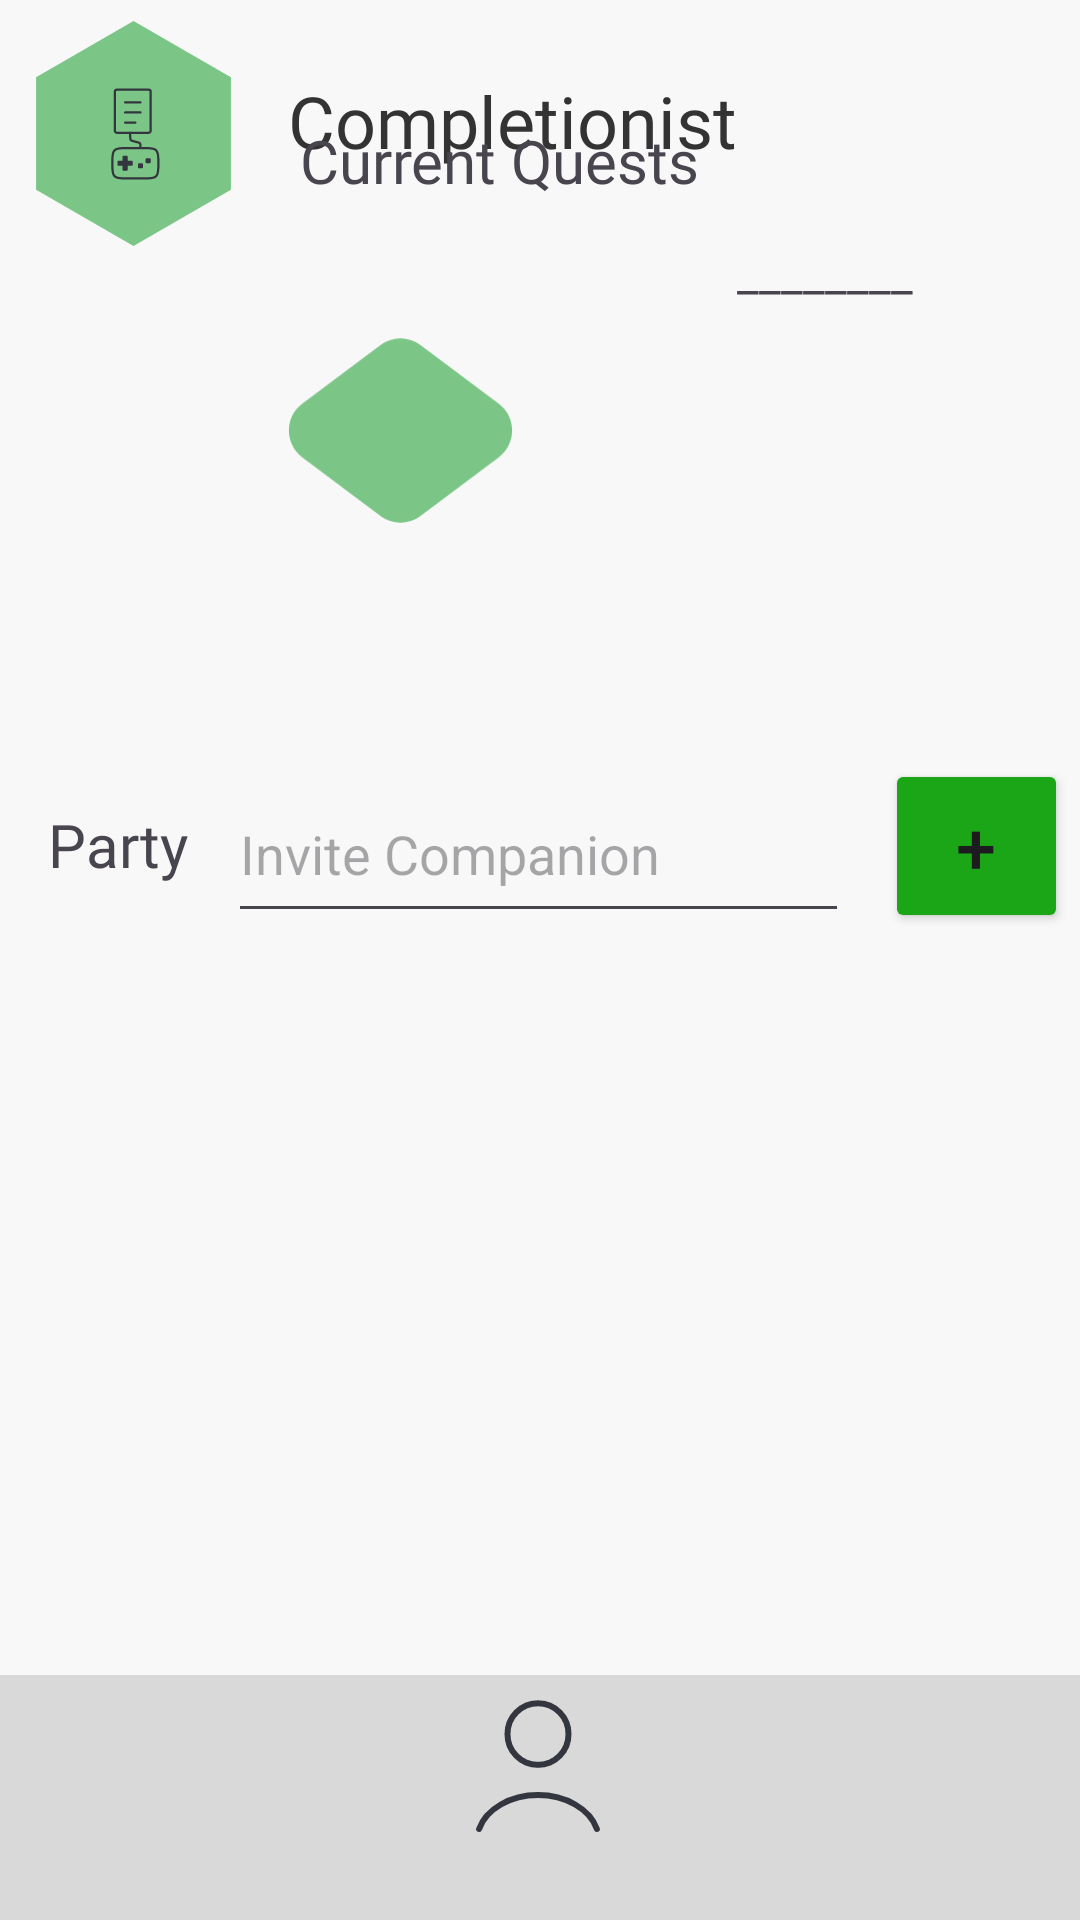

Icons on this 1080px×1920px Android screen, each with its box as Rect(x1, y1, x2, y2):
user: Rect(476, 1700, 600, 1832)
